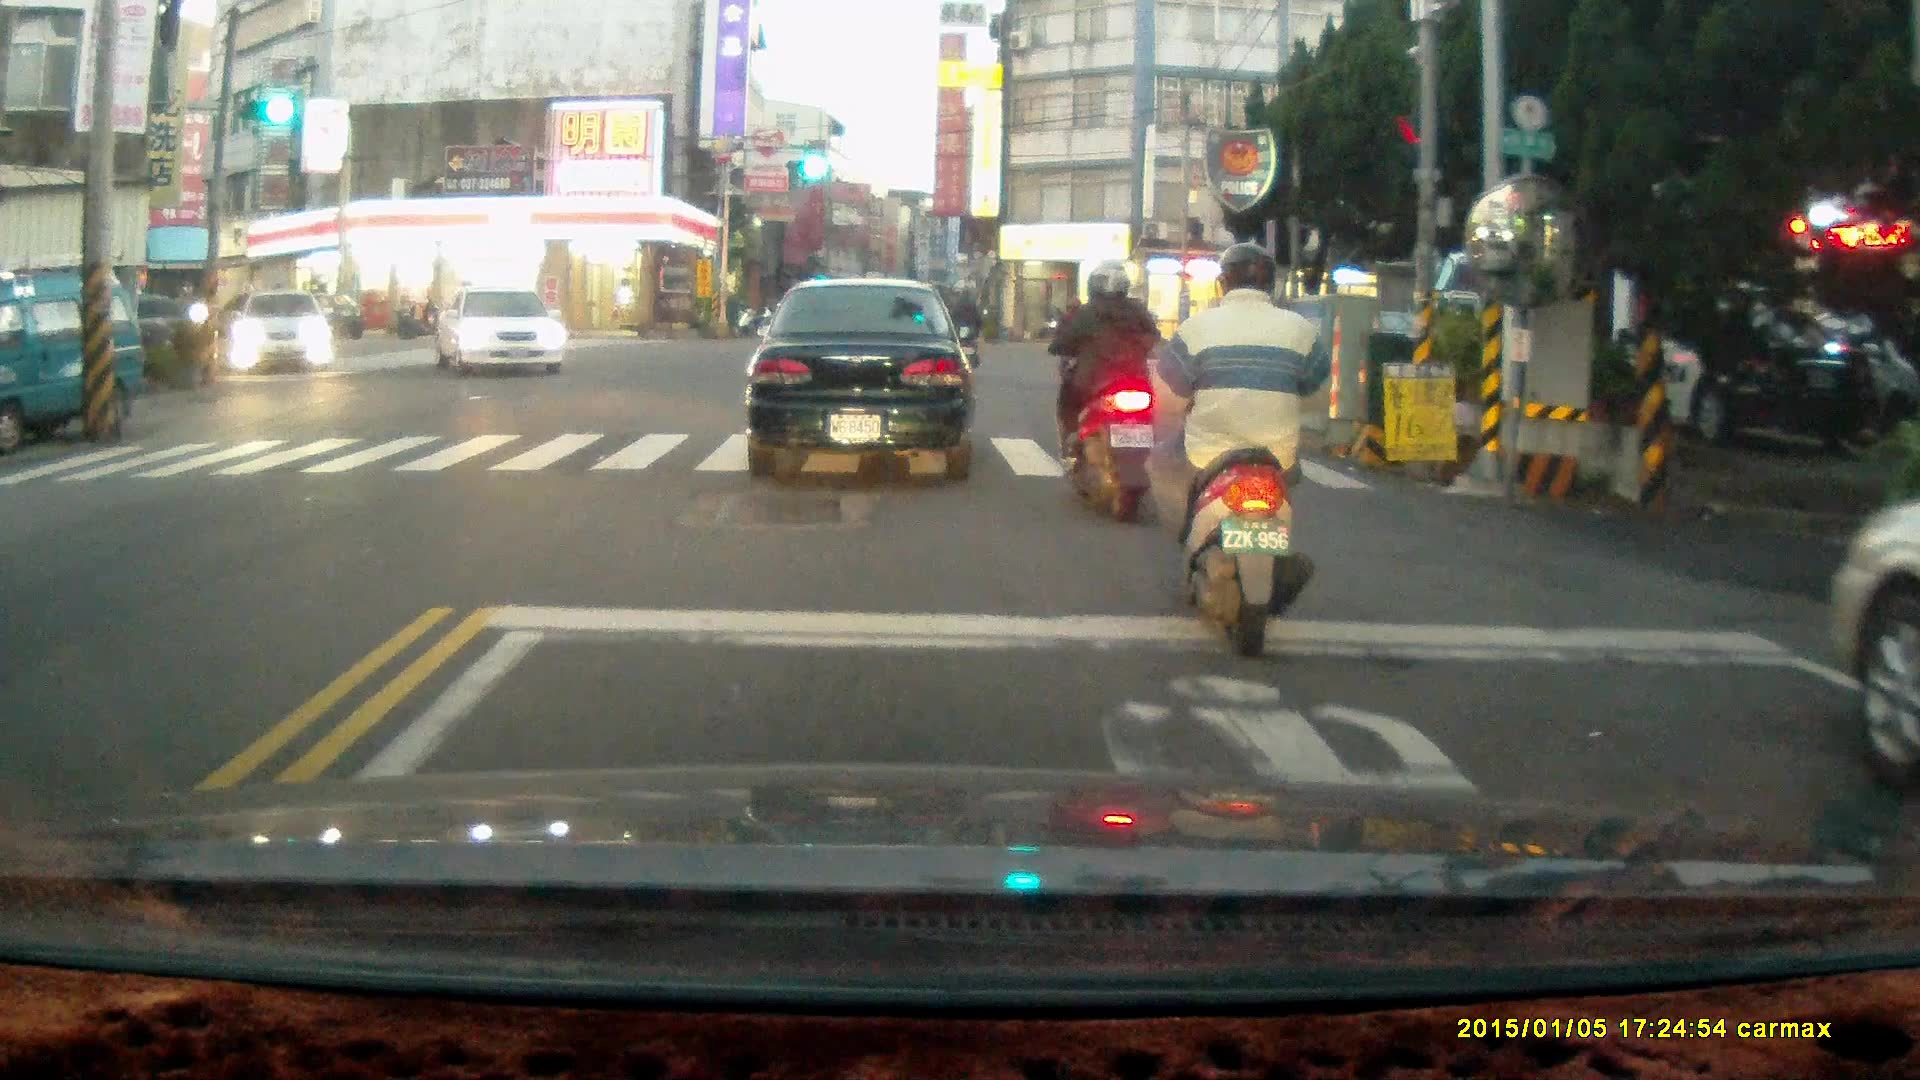rider: (1142, 234, 1336, 640), (1033, 258, 1169, 525), (940, 288, 985, 380)
vehicle: (1550, 277, 1883, 441), (744, 276, 975, 478), (1818, 486, 1920, 795), (1, 267, 149, 458), (435, 289, 569, 377), (229, 291, 337, 378)
